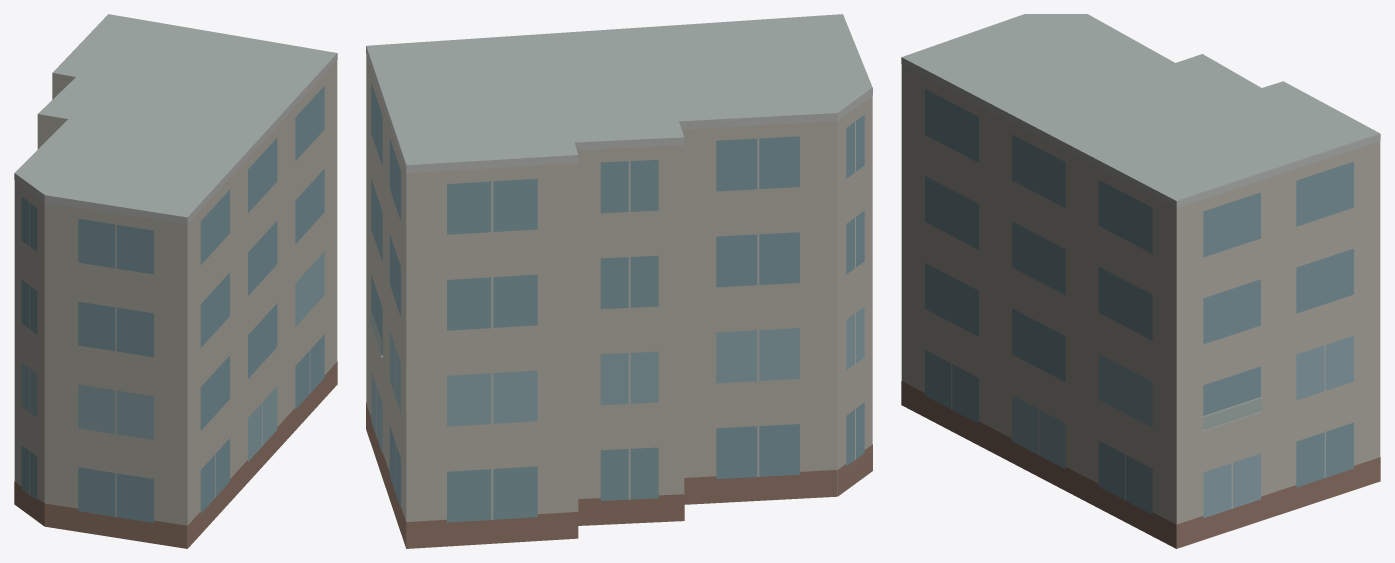
File: survey-upis-32561112.glb
3 views of the same model, side by side, from view 1: azimuth 30°, elevation 25°; view 2: azimuth 150°, elevation 25°; view 3: azimuth 270°, elevation 25° (orthographic). The views are drawn at different scales.
Parts seen in each view (by area): view 1: survey-upis-32561112.tmp; view 2: survey-upis-32561112.tmp; view 3: survey-upis-32561112.tmp.
Boxes of the visible parts, <box> form: survey-upis-32561112.tmp: <box>14,14,337,548</box>; survey-upis-32561112.tmp: <box>366,14,872,548</box>; survey-upis-32561112.tmp: <box>901,14,1380,548</box>.
Size of the model in its own units: 13.5 by 11.7 by 14.61.
